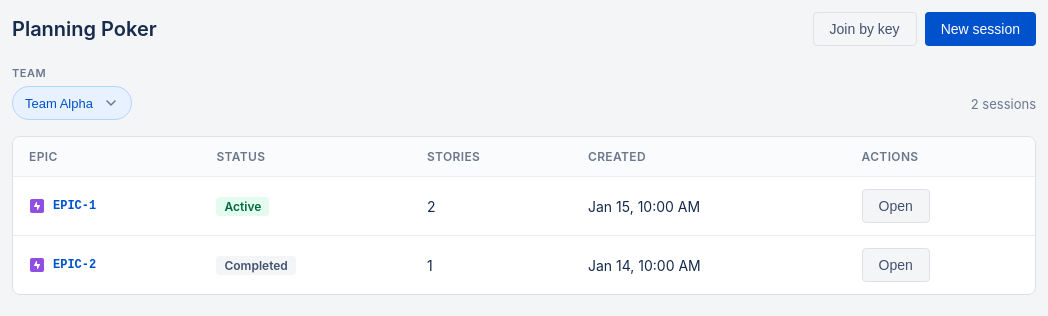
Test: PlanningPokerPage › Create session (epic picker) › should filter epics by search query
Click the button "New session" at [980, 29], box [925,12,1036,46]
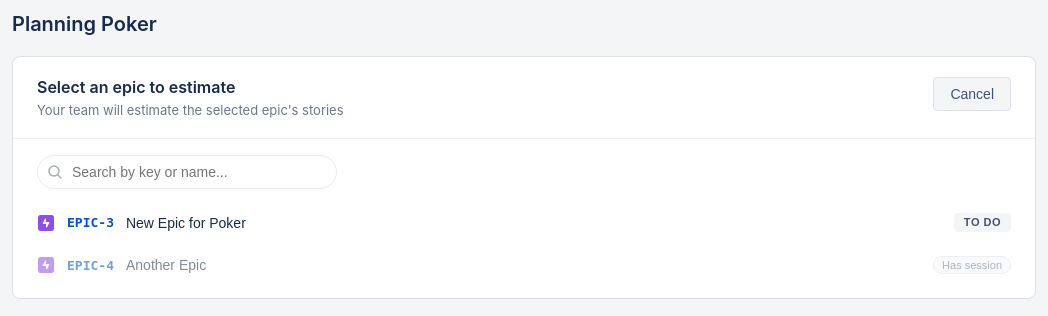
Expected: the text "EPIC-3" is shown, [67,215,114,230]
Type "Another" into the field with placeholder "Search by key or name..." at [187, 172], box [37,155,337,189]
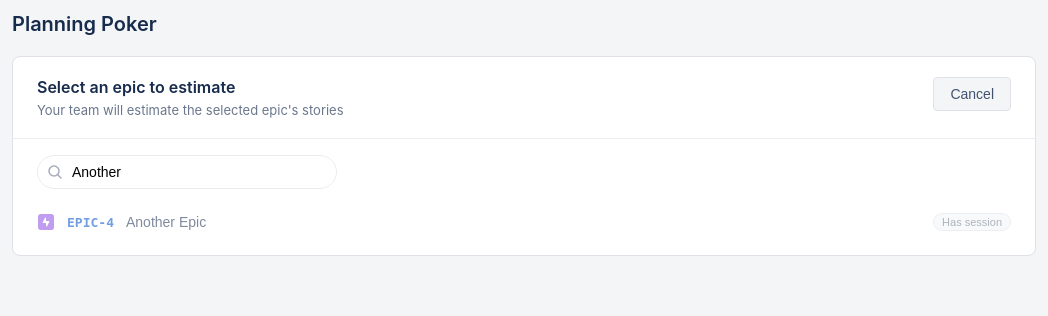
Expected: the text "Another Epic" is shown, [126,214,206,230]
Expected: the button "New Epic for Poker" is gone
